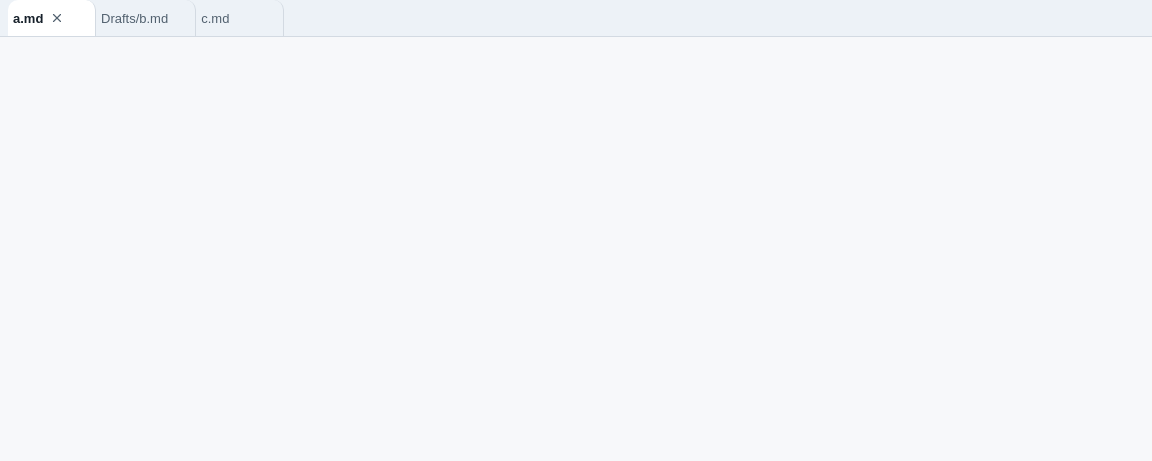
Test case: DocumentTabBar context menu (#354) › shows the full menu with every command in issue order on a document tab
This screenshot has width=1152, height=461.
Right-click the tab "Drafts/b.md": (146, 18) [96,0,196,36]
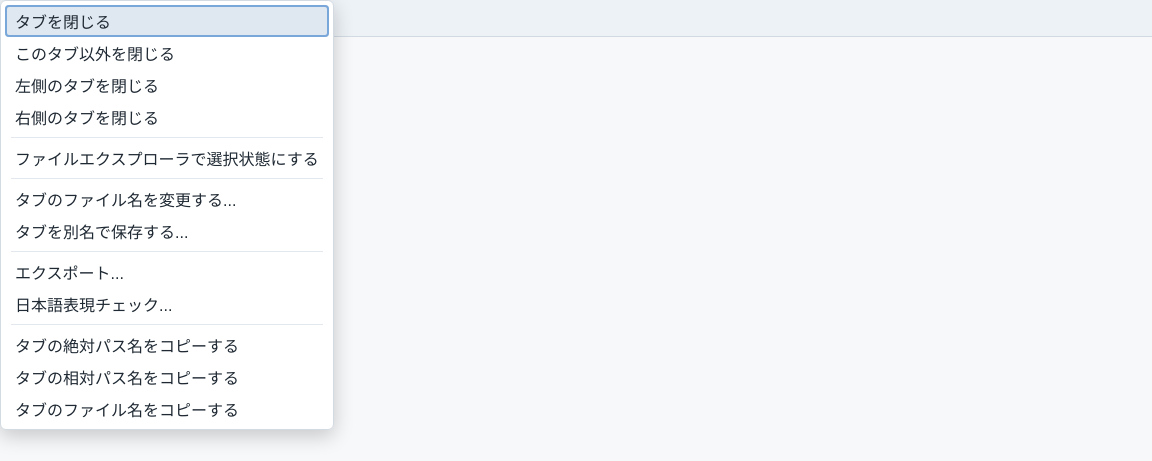
Check: the menu is shown, box [0,0,334,430]
